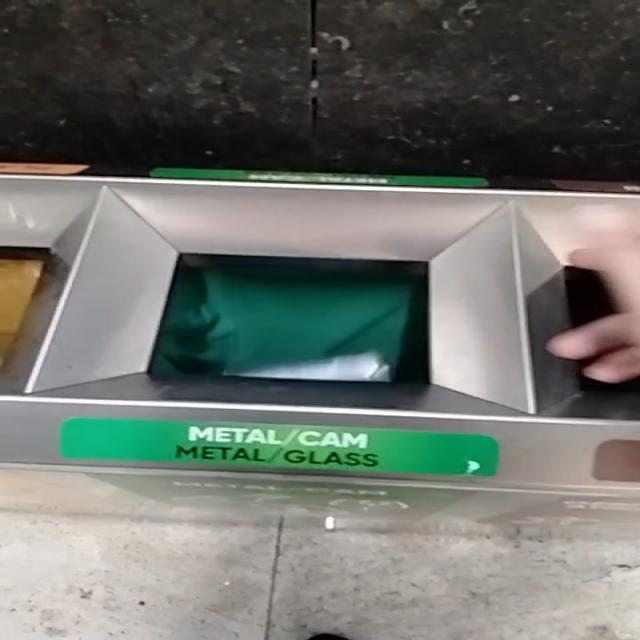Metal: (235, 352, 391, 382)
